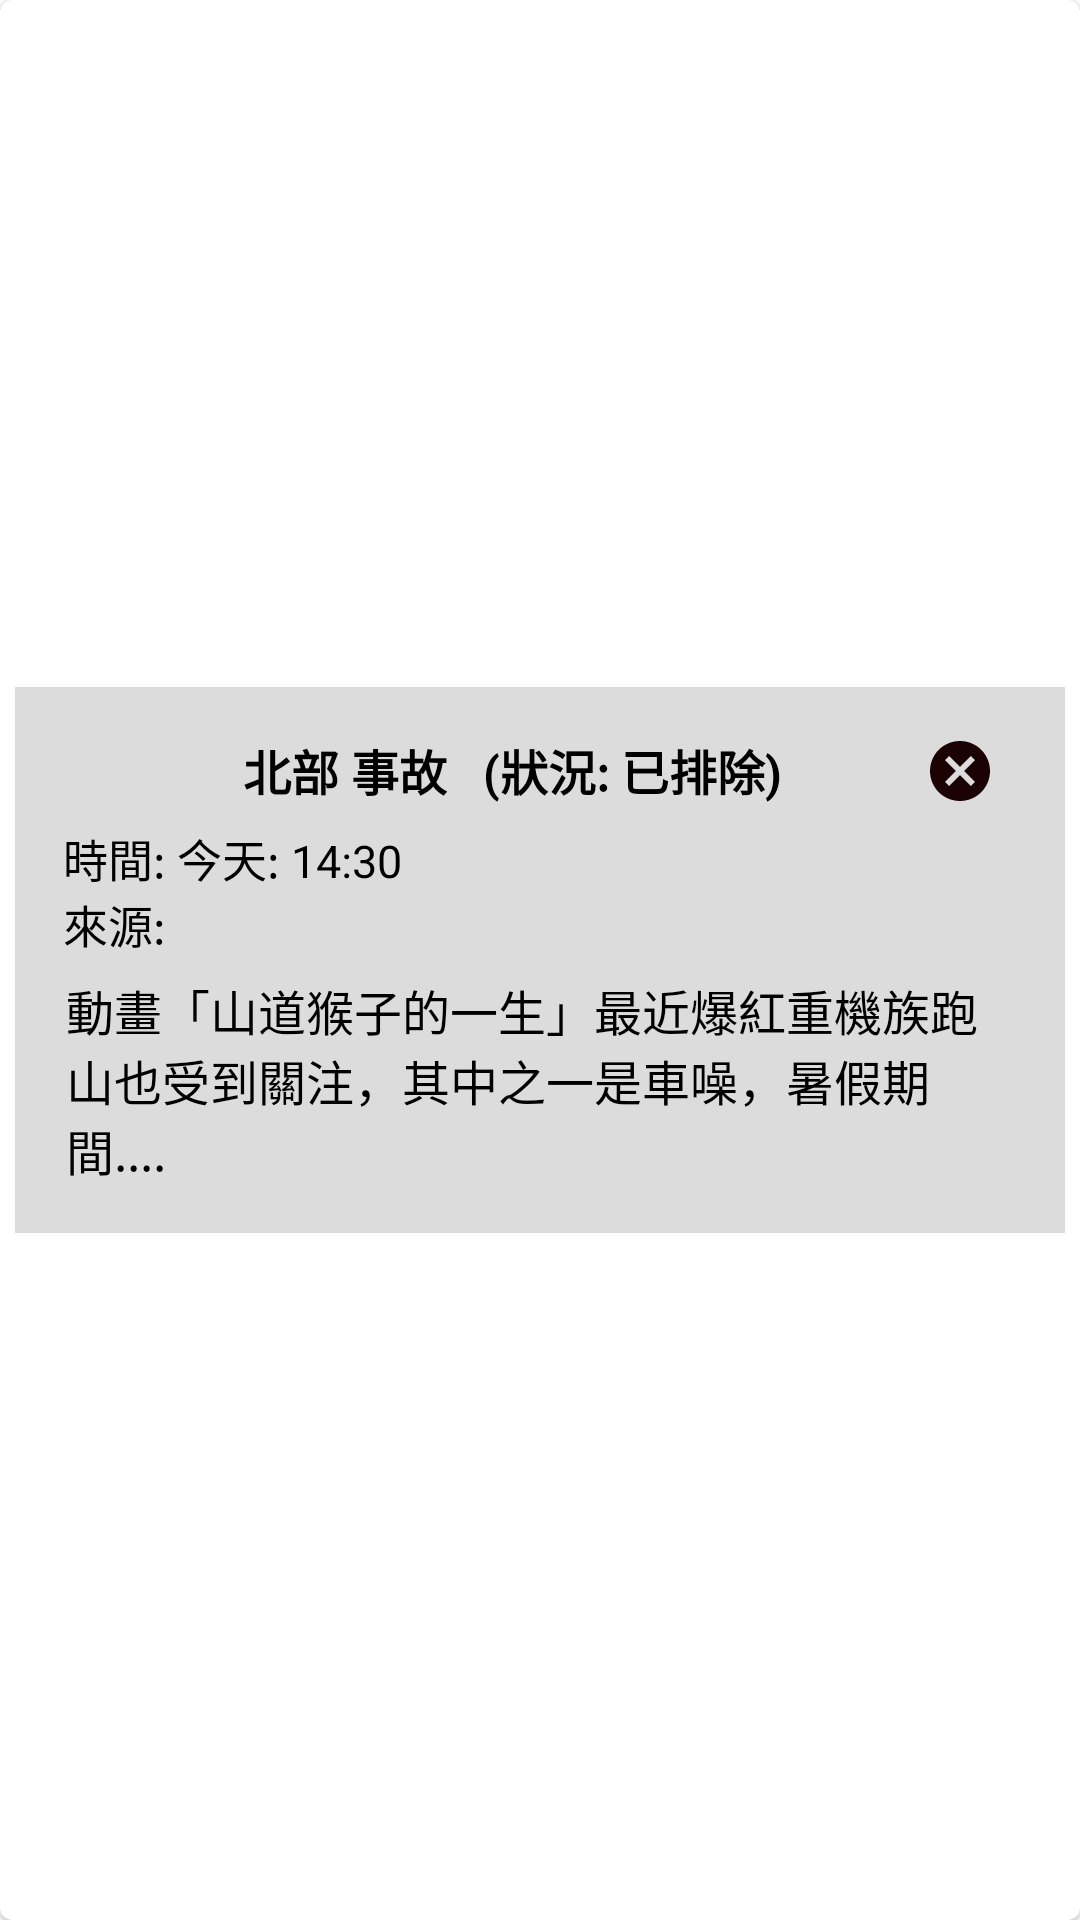

Named icons in this screenshot (1080 × 1920) and their bounding boxes, (x1, y1, x2, y2):
cancel: (930, 741, 990, 801)
